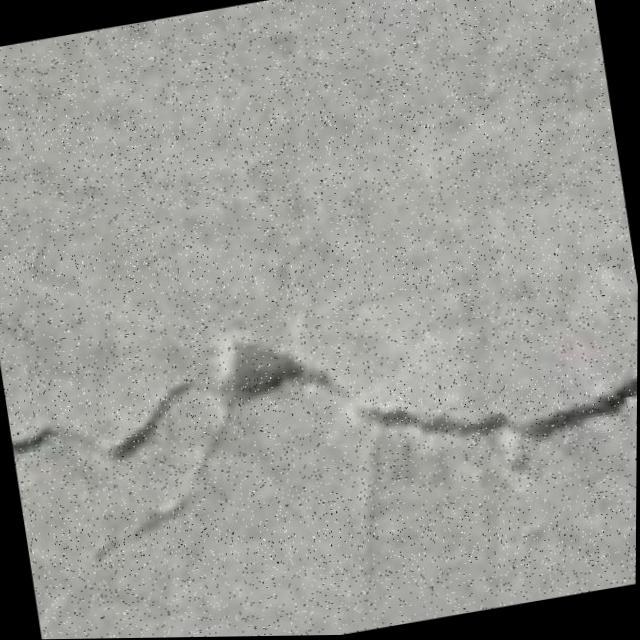Crack: (1, 267, 638, 556)
